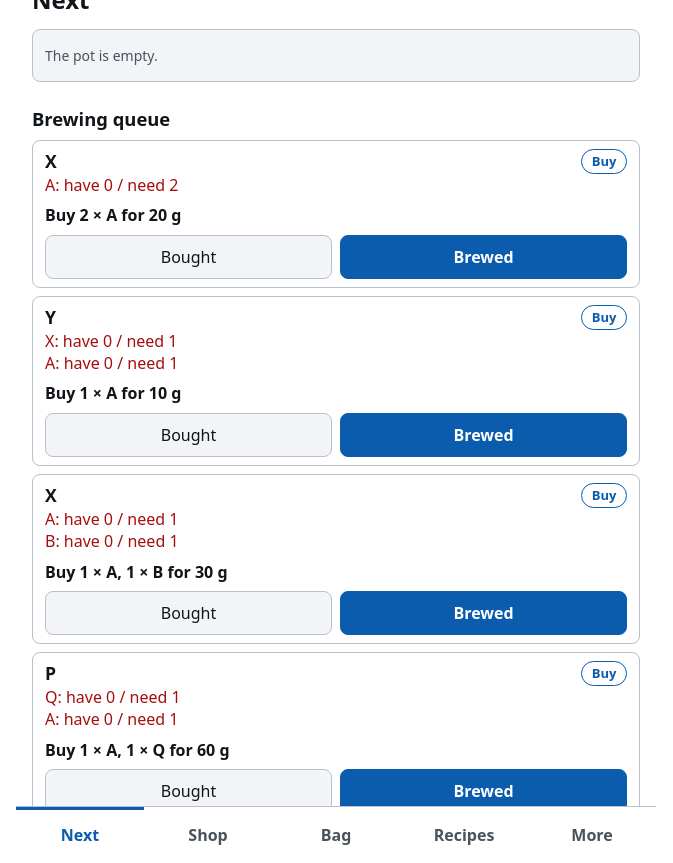
Test: Recipes › collapses blocked recipes with spoilers off
What coordinates should you click on to do the following:
click the button "Recipes"
I would click on:
 (464, 835)
Its box is [400,807,528,862].
(page scrolled)
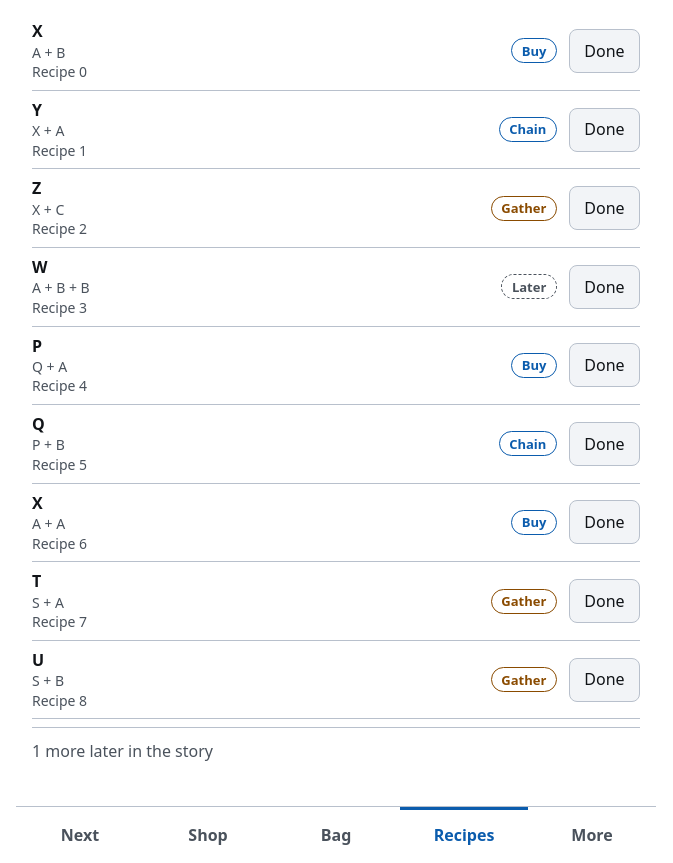
Result: the number of list items is 9
Result: the text "1 more later in the story" is shown at [32,727,640,775]
